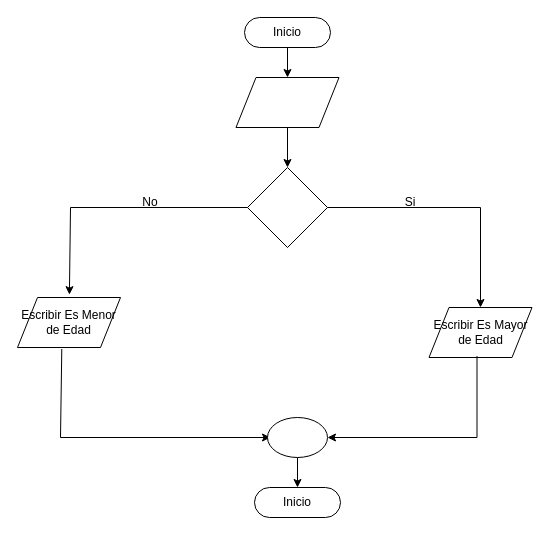
Some shapes in this 550 by 535 pixel diagram are drawn without their labels. The shapes that lost their labels are listed below. From the top down, each one's centre as x and y in pixels, then its label:
At point (287, 102): "Leer edad".
At point (287, 207): "si edad >=18".
